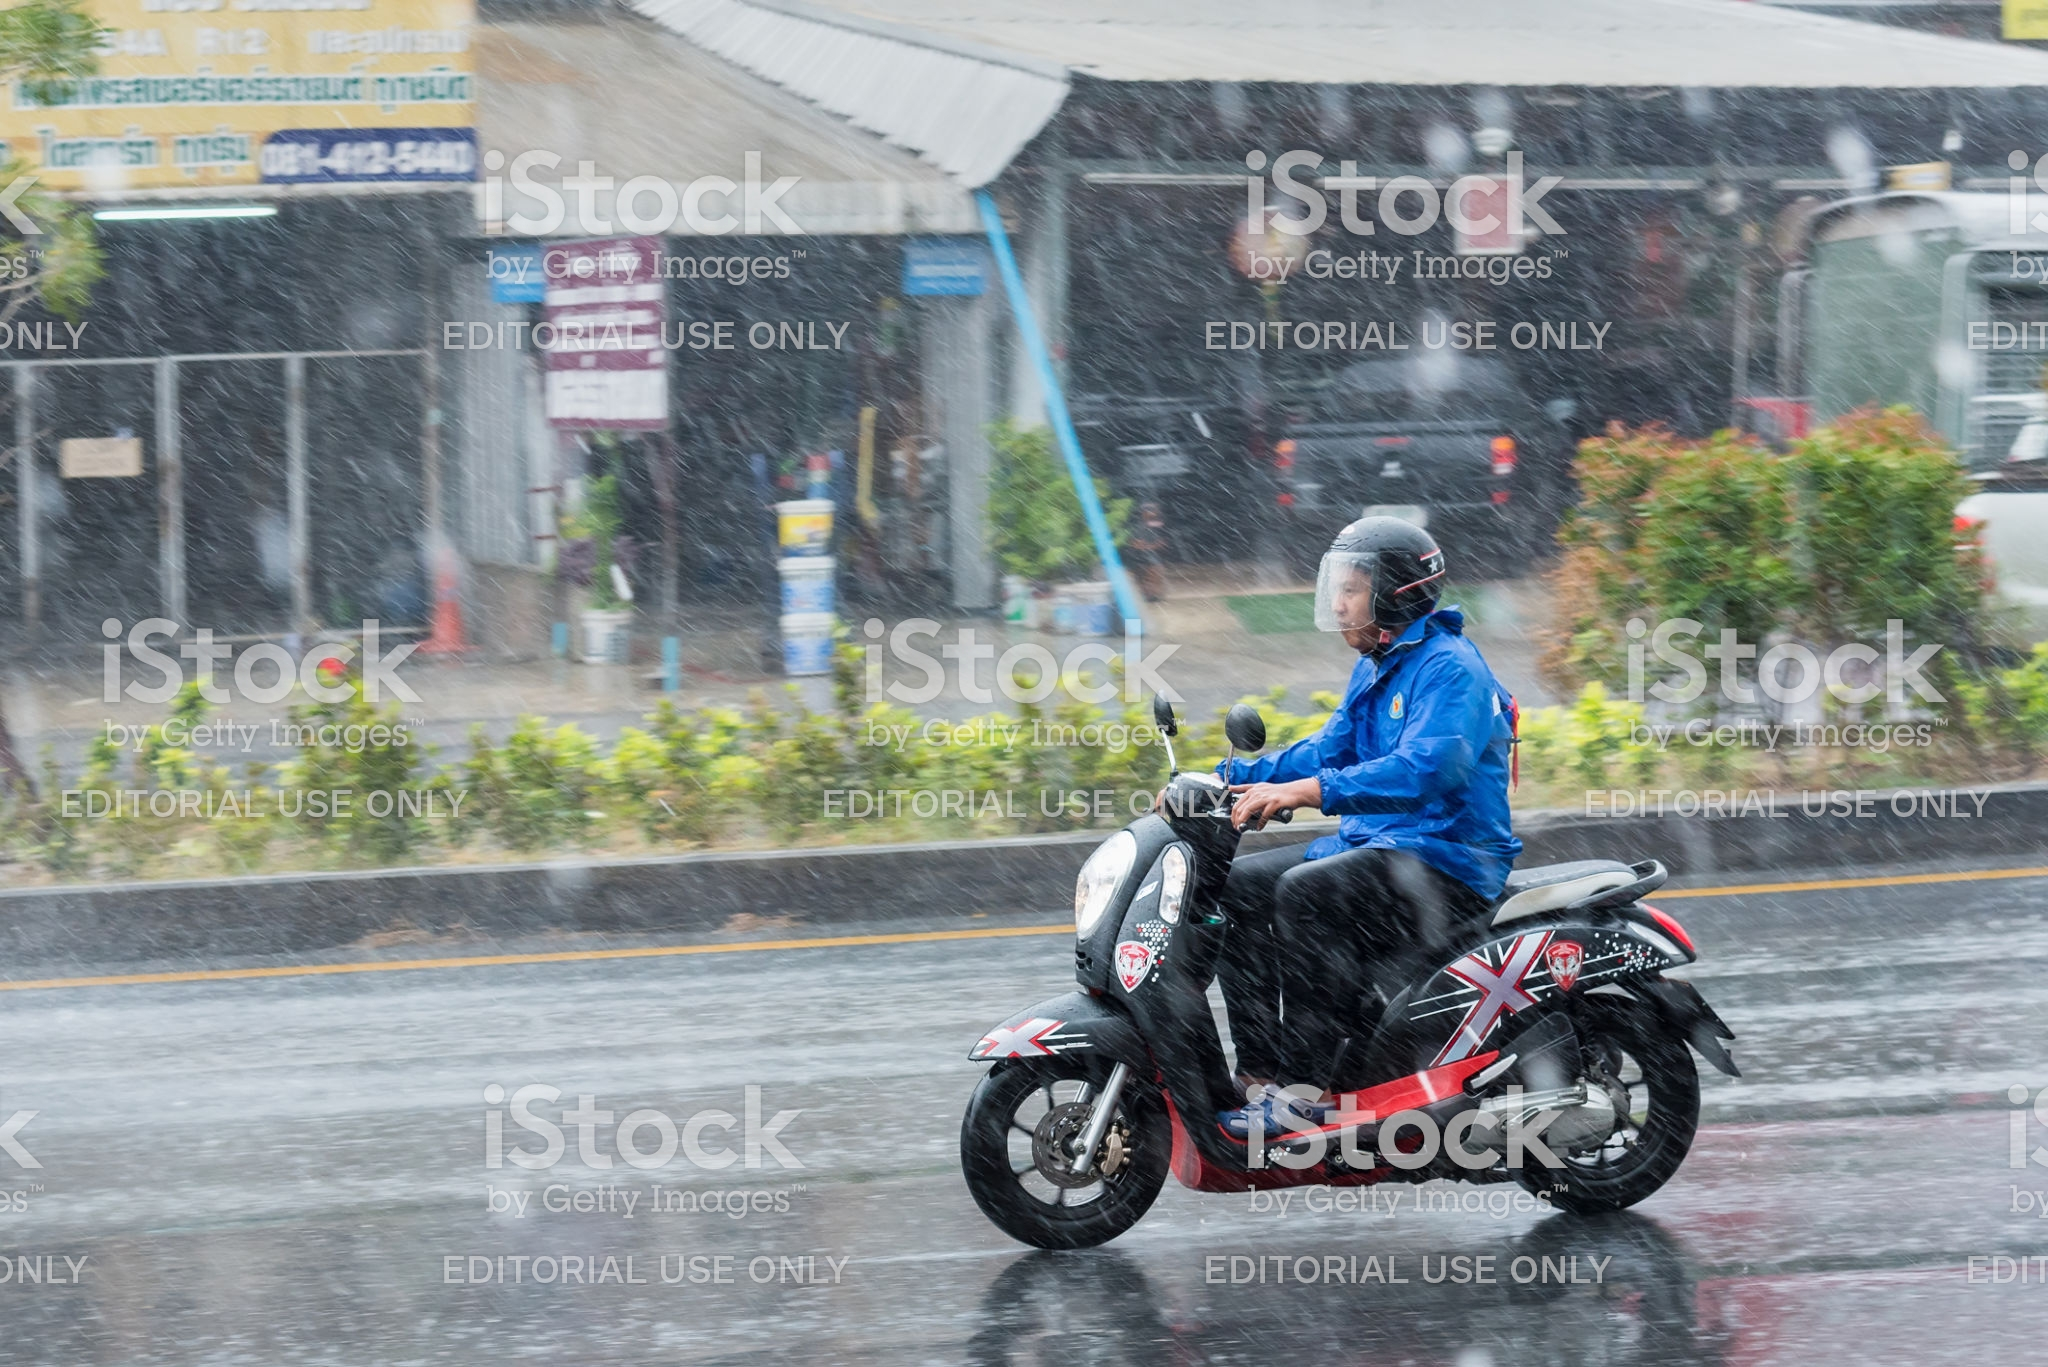helmet: (1313, 523, 1461, 639)
